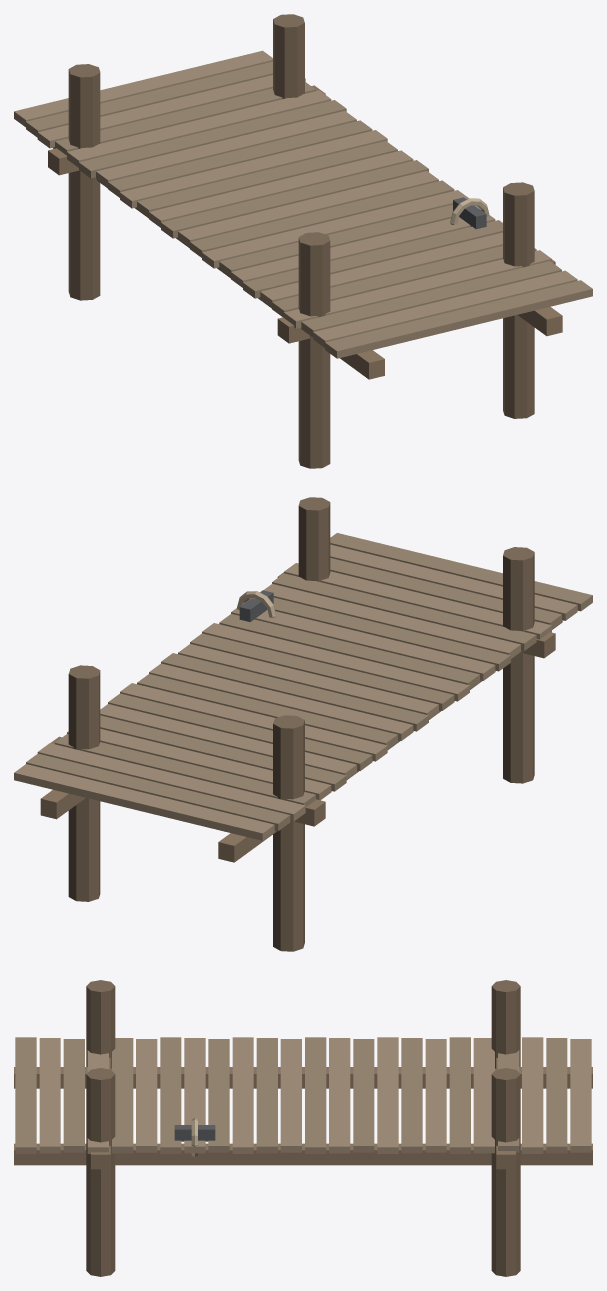
The model's file is wooden_dock.glb.
3 views of the same model, one above another, from view 1: azimuth 30°, elevation 25°; view 2: azimuth 150°, elevation 25°; view 3: azimuth 270°, elevation 25° (orthographic). The views are drawn at different scales.
Parts seen in each view (by area): view 1: geometry_0; view 2: geometry_0; view 3: geometry_0.
Boxes of the visible parts, x1,y1,x2,y2 form: geometry_0: [14, 14, 592, 468]; geometry_0: [14, 497, 592, 951]; geometry_0: [14, 980, 592, 1276].
Size of the model in its own units: 3 by 2.4 by 6.4.
